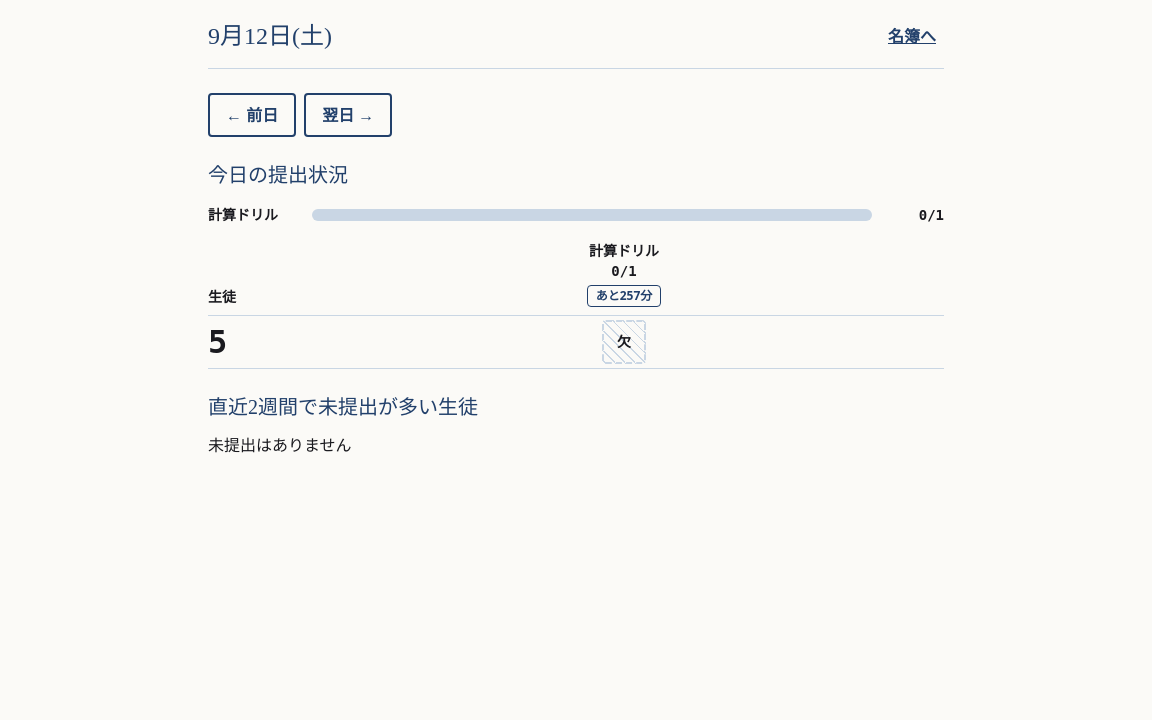
Test: 欠席マーク › 欠席のセルをタップして取り消せる
The width and height of the screenshot is (1152, 720).
Click the button named "5番 計算ドリル 欠席".
click(624, 342)  # box [602, 320, 646, 364]
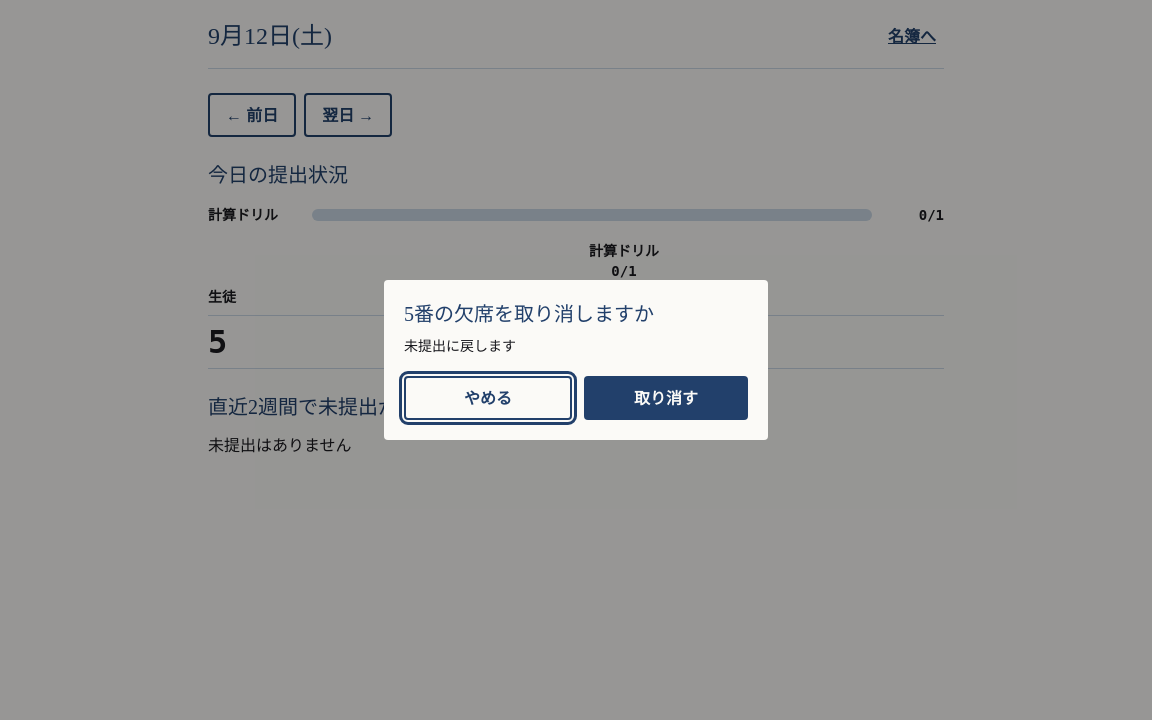
Click the button "取り消す".
click(666, 398)  # box [584, 376, 748, 420]
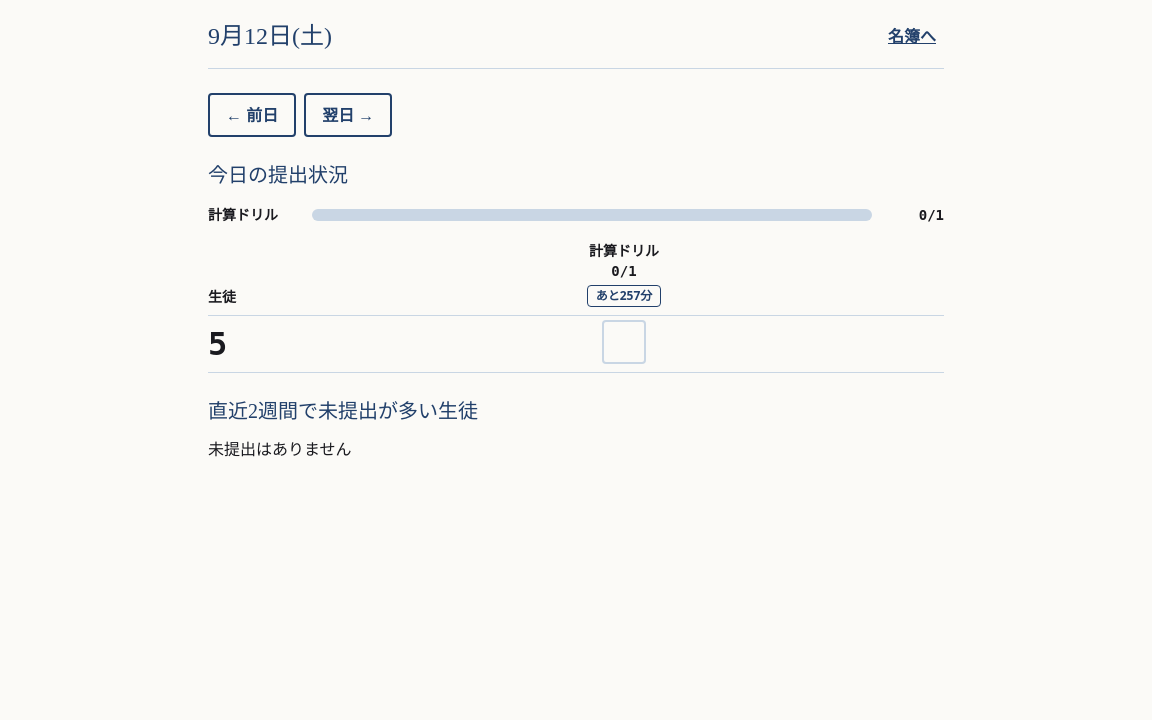
Check: the button named "5番 計算ドリル 未提出" is shown, box [602, 320, 646, 364]
